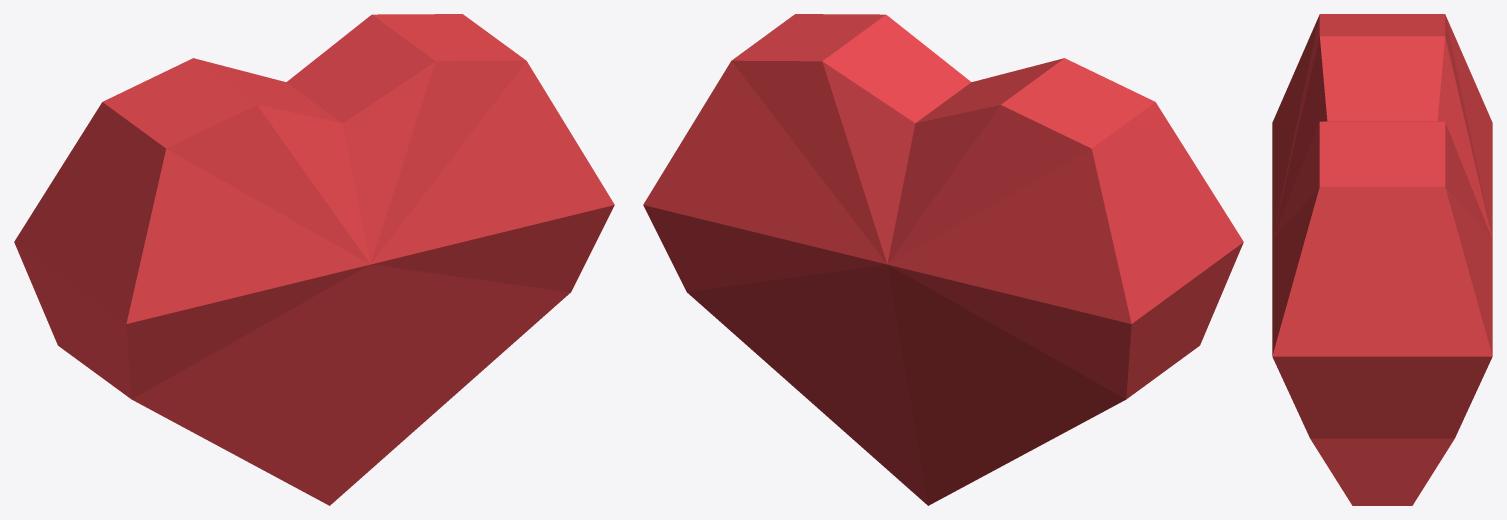
File: heart.fbx
3 renders of one model, left to right at view 1: azimuth 30°, elevation 25°; view 2: azimuth 150°, elevation 25°; view 3: azimuth 270°, elevation 25°, orthographic.
Visible parts, largest first — view 1: Cube; view 2: Cube; view 3: Cube.
Part boxes in pixels (x1=…): Cube: x1=14, y1=14, x2=614, y2=505; Cube: x1=643, y1=14, x2=1243, y2=505; Cube: x1=1272, y1=14, x2=1492, y2=505.
Bounding box in the file's own units: 1.88 × 1.6 × 0.75.
